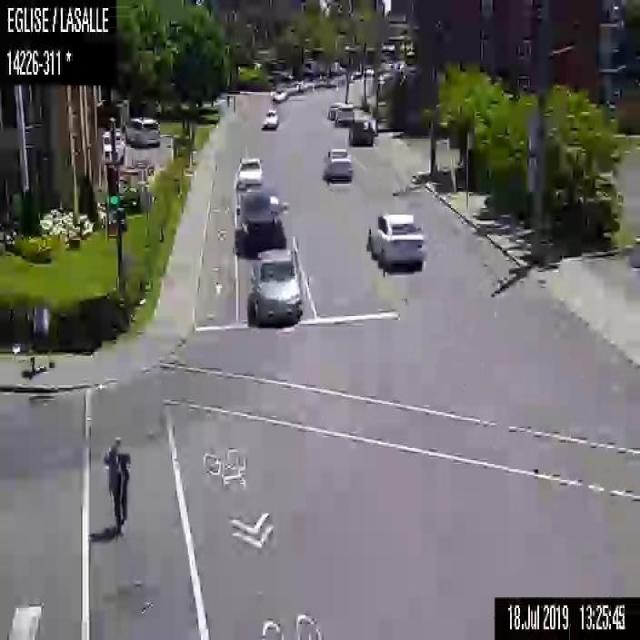pedestrian: (101, 433, 131, 535), (368, 96, 379, 135)
vehicle: (247, 248, 304, 328), (231, 189, 289, 253), (366, 208, 426, 268), (122, 114, 160, 148), (233, 154, 265, 188), (320, 146, 350, 182), (348, 112, 374, 146), (100, 130, 125, 164), (260, 106, 278, 130), (334, 104, 354, 124), (328, 101, 344, 120), (270, 88, 288, 104)
